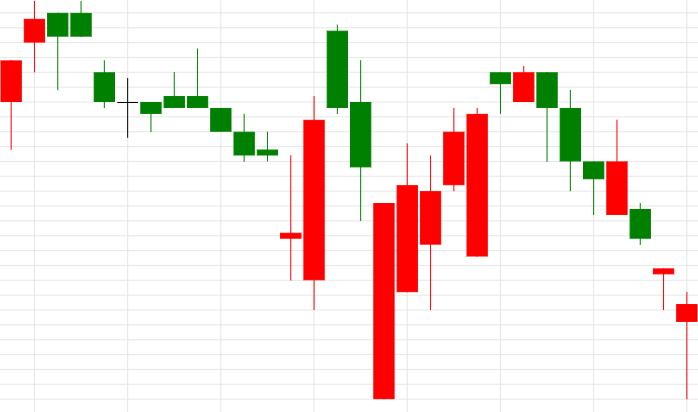three_black_crows_fall: (373, 65, 604, 399)
